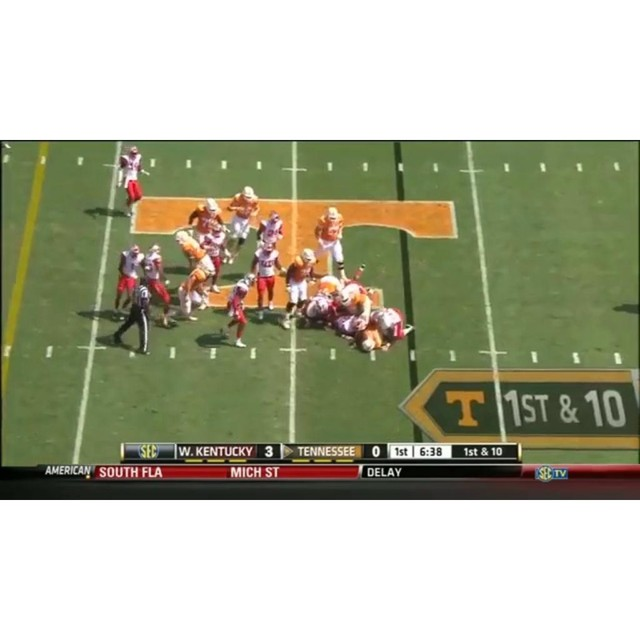american-football-player: (220, 272, 257, 348), (314, 207, 350, 283), (114, 145, 150, 218), (250, 239, 284, 316), (283, 250, 319, 322), (111, 243, 144, 316), (175, 231, 218, 284), (178, 261, 214, 322), (225, 186, 260, 247)
